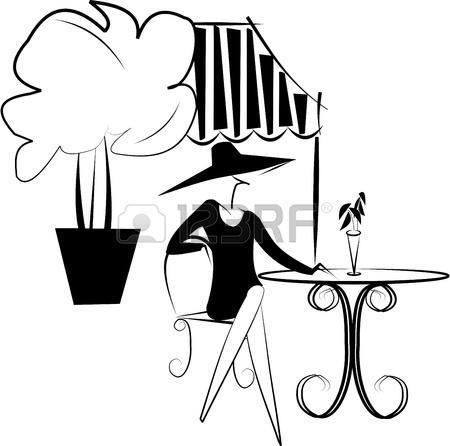chair: (159, 233, 255, 387)
diningtable: (258, 264, 450, 418)
person: (152, 139, 327, 444)
pottedplant: (1, 1, 198, 312)
